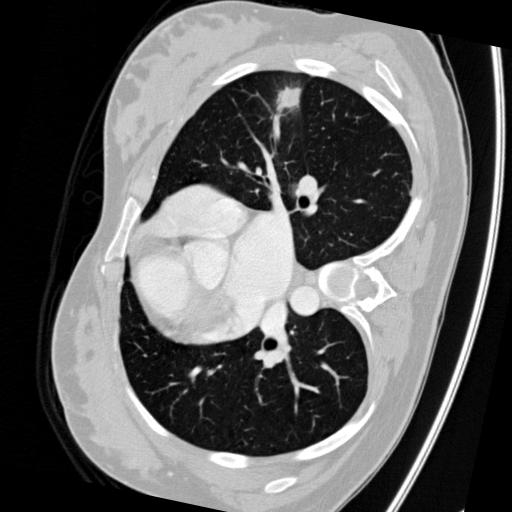nodule: (270, 82, 304, 116)
